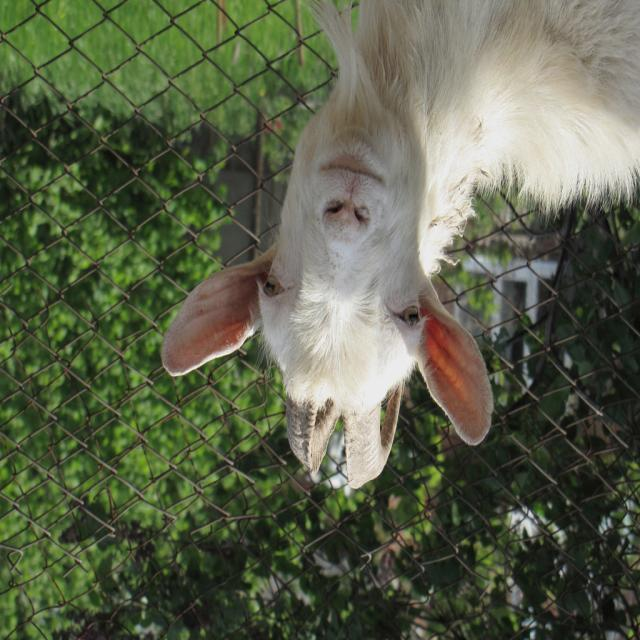Goat: (161, 2, 640, 491)
